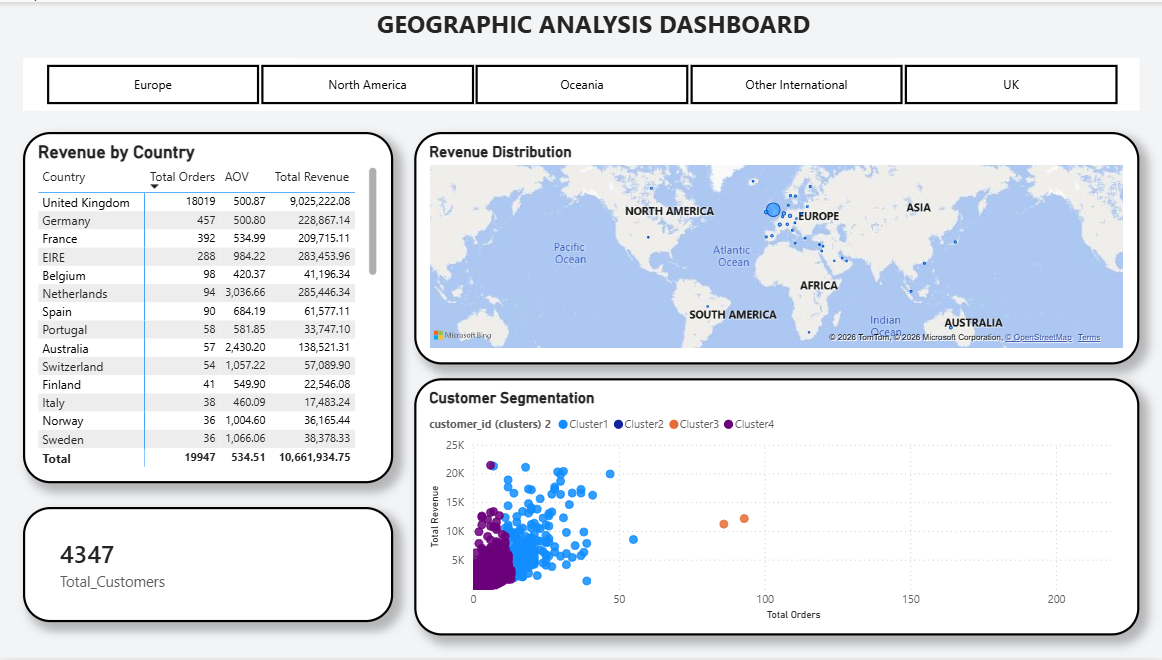

The page's visual inventory and layout, read from the dashboard file:
{"tool":"powerbi","page":{"name":"GEOGRAPHIC ANALYSIS","canvas":[1280,720],"ordinal":2},"visuals":[{"type":"map","title":"Revenue Distribution","fields":{"Category":["public dim_region.country"],"Size":["public fact_orders.Total Revenue"]},"box":[456.9,142.7,795.9,255.2],"z":0},{"type":"pivotTable","title":"Revenue by Country","fields":{"Rows":["public dim_region.country"],"Values":["public fact_orders.Total Orders","public fact_orders.AOV","public fact_orders.Total Revenue"]},"box":[27.4,142.7,406.2,385.6],"z":1000},{"type":"scatterChart","title":"Customer Segmentation","fields":{"Category":["public dim_customer.customer_id"],"X":["public fact_orders.Total Orders"],"Y":["public fact_orders.Total Revenue"],"Series":["public dim_customer.customer_id (clusters) 2"]},"box":[456.9,413,795.9,282.7],"z":2000},{"type":"slicer","fields":{"Values":["public dim_region.region_group"]},"box":[27.4,61.7,1225.4,57.6],"z":3000},{"type":"textbox","box":[326.6,0,654.5,61.7],"z":4000},{"type":"cardVisual","fields":{"Data":["public dim_customer.Total_Customers"]},"box":[27.4,554.4,406.2,126.2],"z":5000}]}

Visuals, with their boxes in screenshot pixels (x1, y1, x2, y2), scaled from the page's 1280x720 canvas onto the 1162x660 screenshot:
"Revenue Distribution" map: <bbox>415, 131, 1137, 365</bbox>
"Revenue by Country" pivotTable: <bbox>25, 131, 394, 484</bbox>
"Customer Segmentation" scatterChart: <bbox>415, 379, 1137, 638</bbox>
slicer - public dim_region.region_group: <bbox>25, 57, 1137, 109</bbox>
textbox: <bbox>296, 0, 891, 57</bbox>
cardVisual - public dim_customer.Total_Customers: <bbox>25, 508, 394, 624</bbox>
